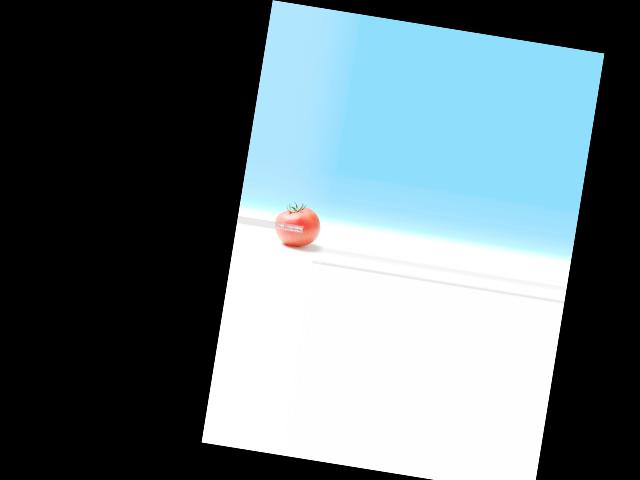tomato: (271, 203, 322, 248)
